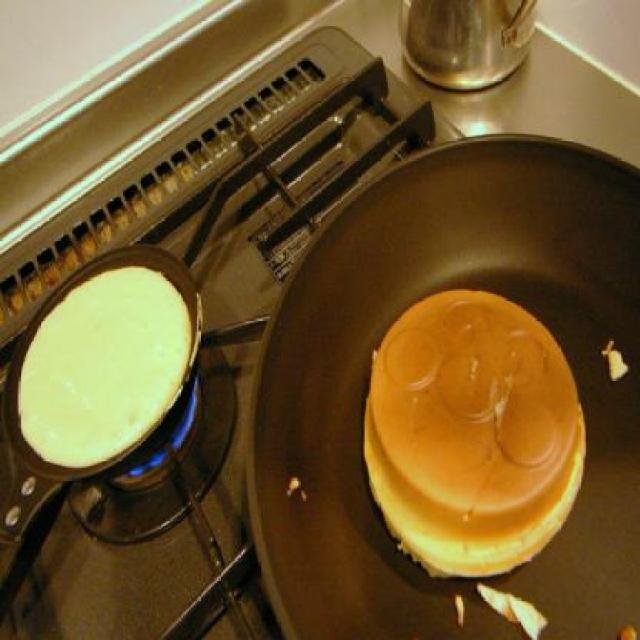Pancake: (372, 287, 588, 587)
